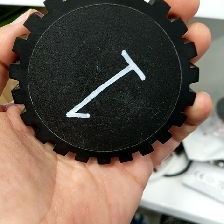gear: (7, 1, 202, 166)
